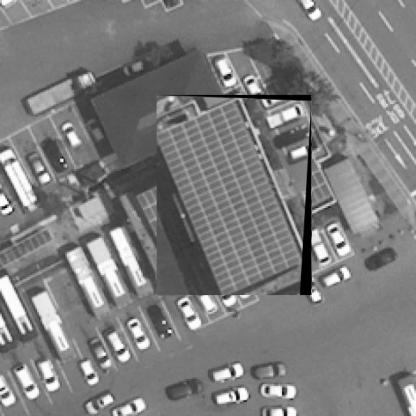solar-pv-panel: (157, 98, 304, 295)
